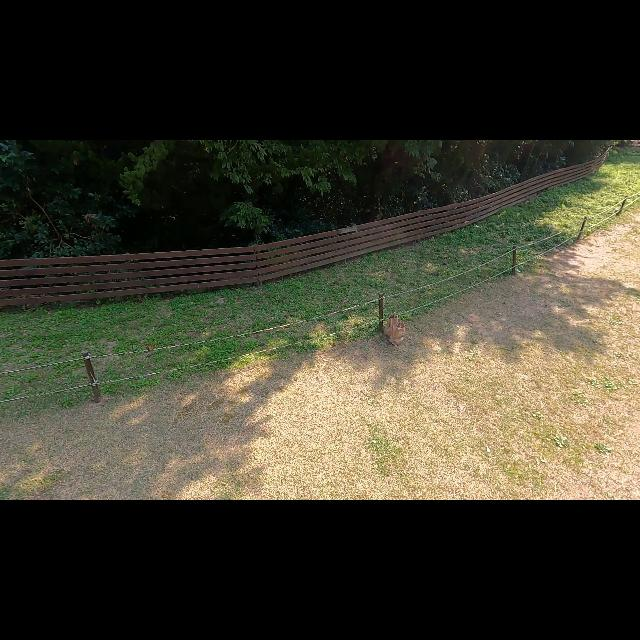trash: (388, 319, 406, 346), (385, 312, 399, 336)
